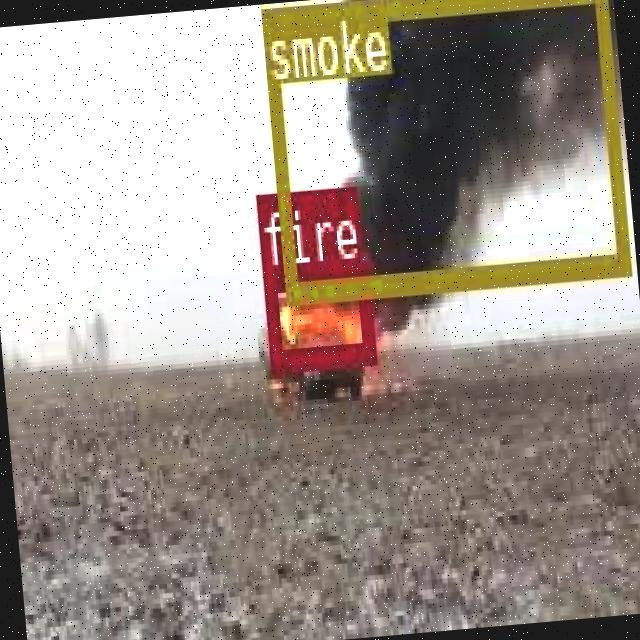fire: (260, 261, 373, 366)
smoke: (259, 0, 626, 298)
